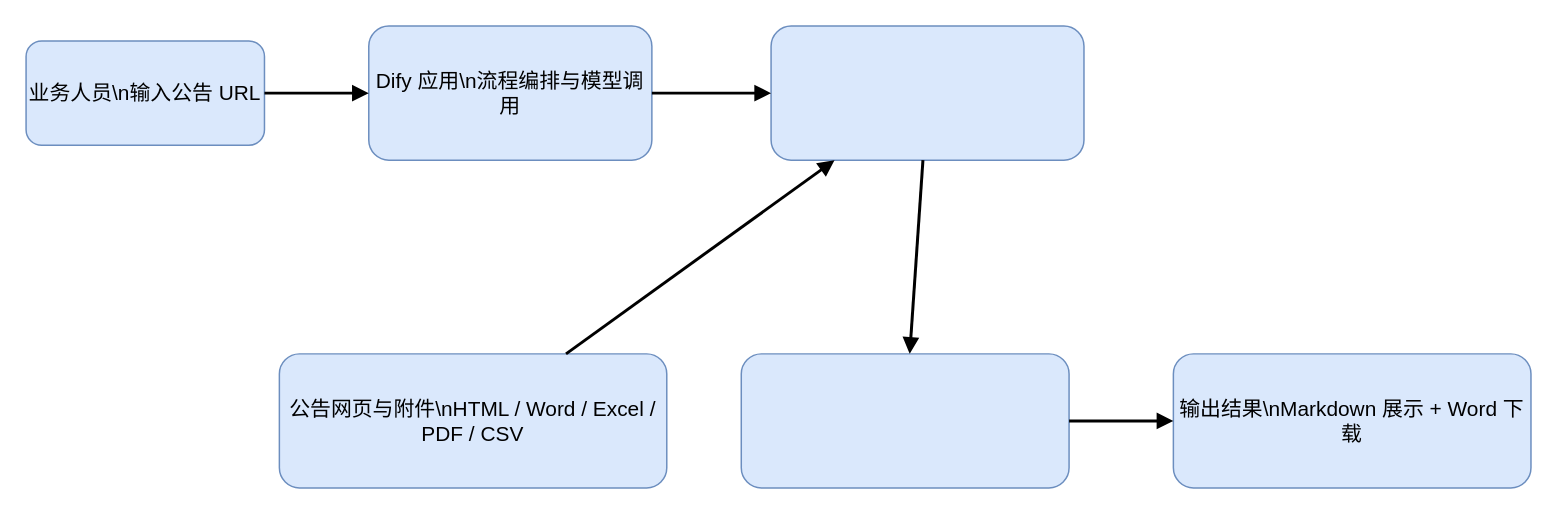
Some shapes in this 1557 by 514 pixel diagram are drawn without their labels. The centre of each missing label's shape, as x and y in pixels:
LLM 报告生成\nReportIR + Markdown: the point at 904,420
本地辅助服务\nFastAPI / Docker: the point at 927,92
